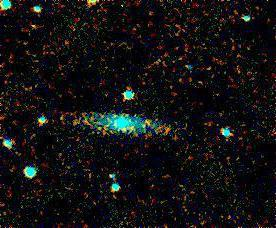star: (21, 13, 51, 43)
